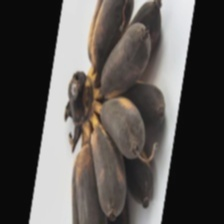banana: (12, 25, 181, 185)
